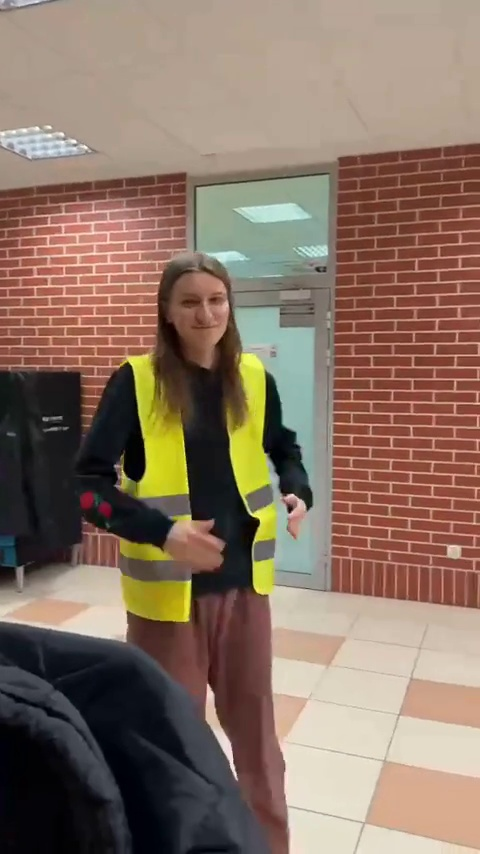vest: (77, 250, 314, 840)
